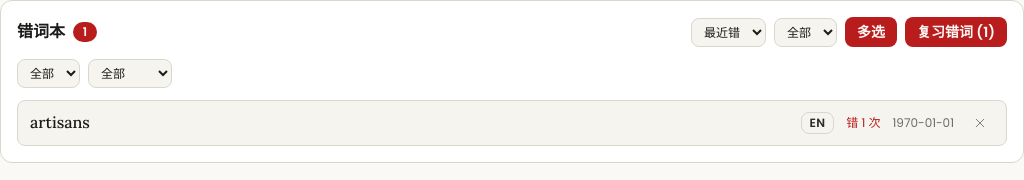
Scenario: WrongWordsSection 单条删除 (v1.4.0 S3a) › T03 [C3.2] 删除最后一条 → 空态文案回归
This screenshot has width=1024, height=180.
Click the button with test id "wrong-word-remove".
click(980, 123)  # box [966, 109, 994, 137]
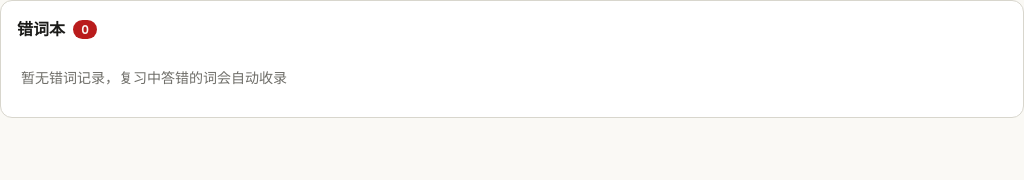
Result: the text "暂无错词记录，复习中答错的词会自动收录" is shown at [21, 68, 287, 88]
Result: the list item with test id "wrong-word-item" is gone
Result: the text with test id "wrong-words-count" reads "0" at [81, 21, 89, 38]
